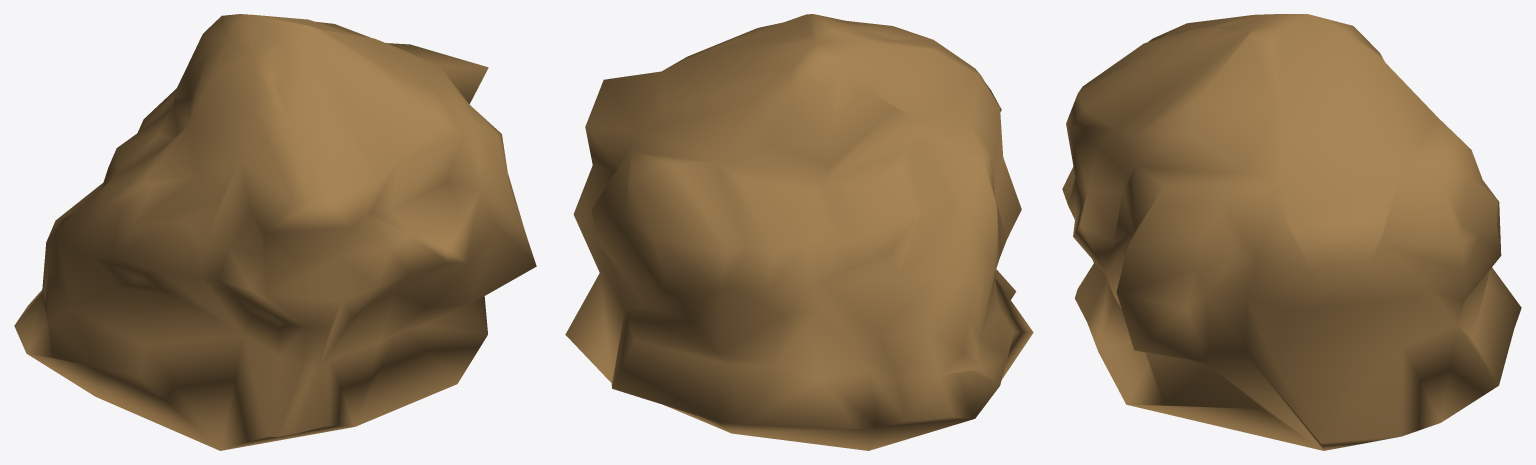
The model's file is hill3.fbx.
The picture shows the model from 3 angles, left to right: view 1: azimuth 30°, elevation 25°; view 2: azimuth 150°, elevation 25°; view 3: azimuth 270°, elevation 25°; orthographic projection. The views are drawn at different scales.
Parts seen in each view (by area): view 1: pCube2; view 2: pCube2; view 3: pCube2.
Boxes of the visible parts, left/top/right/bottom form: pCube2: left=14, top=14, right=536, bottom=450; pCube2: left=565, top=14, right=1033, bottom=450; pCube2: left=1062, top=14, right=1521, bottom=450.
Bounding box in the file's own units: 39.12 × 29.81 × 36.45.
